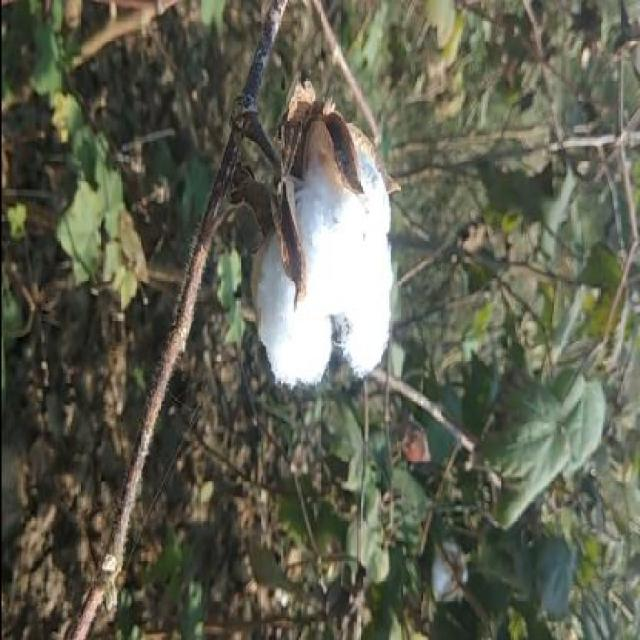cotton_ready: (191, 62, 406, 416)
